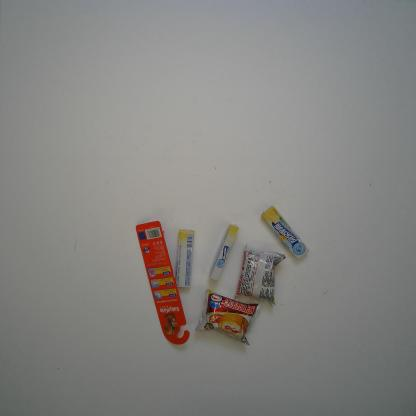Candy: (261, 206, 310, 260), (208, 224, 241, 282), (174, 229, 194, 288)
Dessert: (194, 288, 263, 346), (232, 242, 286, 308)
Personal Hygiene: (134, 220, 191, 346)
